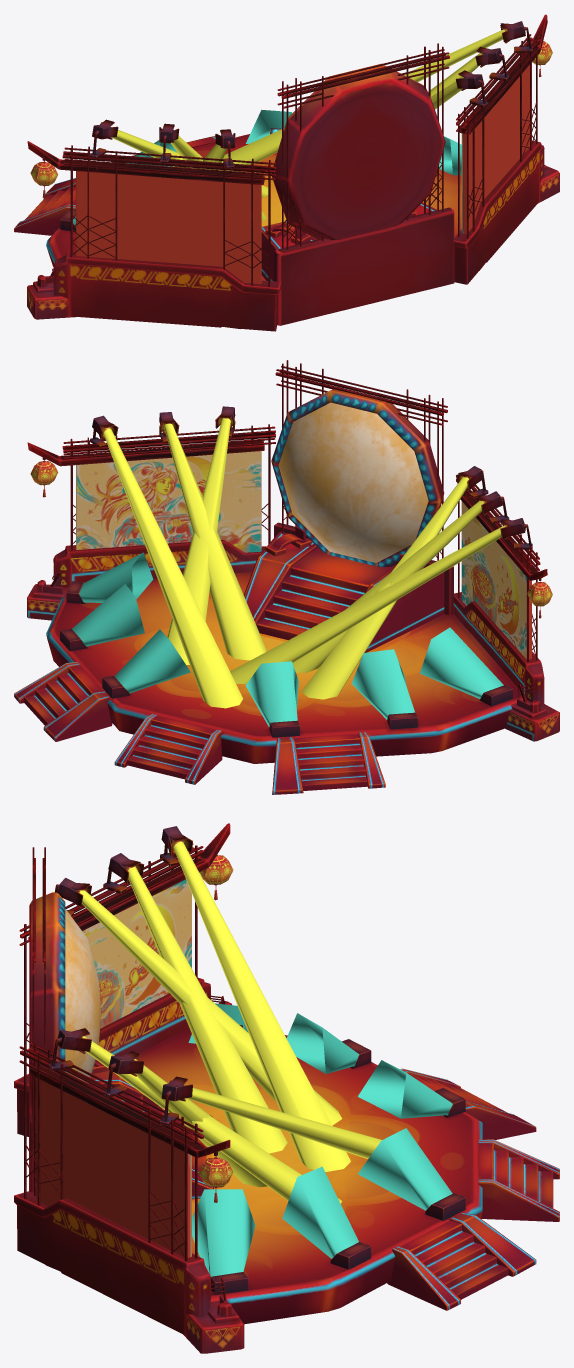
File: Sankhau.fbx
3 views of the same model, one above another, from view 1: azimuth 30°, elevation 25°; view 2: azimuth 150°, elevation 25°; view 3: azimuth 270°, elevation 25° (orthographic). The views are drawn at different scales.
Parts seen in each view (by area): view 1: sk, camera; view 2: sk, camera; view 3: sk, camera.
Part boxes in pixels (box(x1,y1,x2,y2)): sk: box(14, 14, 559, 331); camera: box(73, 21, 532, 224); sk: box(14, 360, 559, 794); camera: box(72, 406, 532, 727); sk: box(14, 823, 559, 1353); camera: box(49, 826, 452, 1276).
Size of the model in its own units: 2321 by 1022 by 1672.
